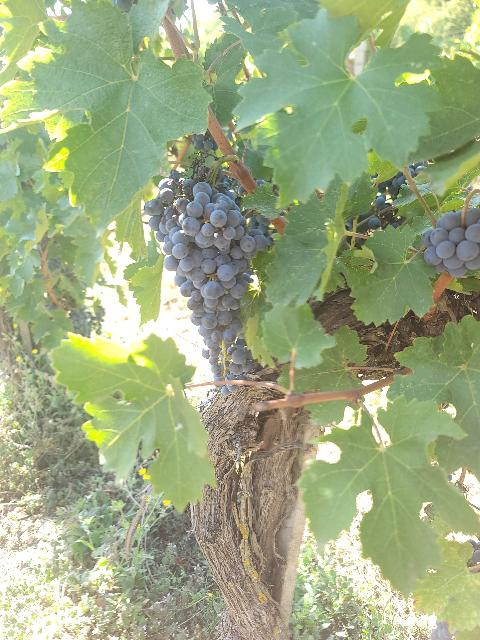grapes: (144, 169, 274, 380), (421, 208, 480, 278)
